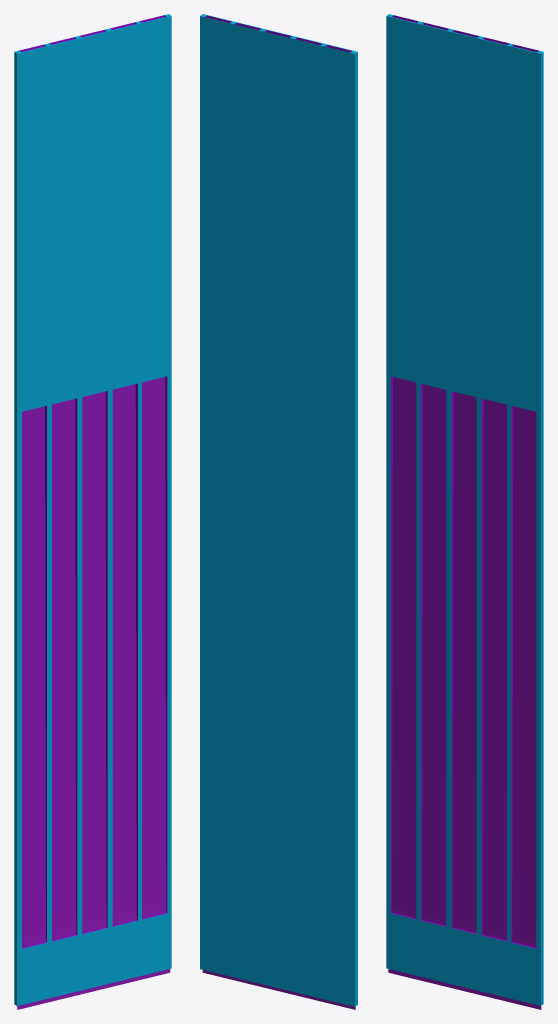
File: decoration-f25.glb
3 renders of one model, left to right at view 1: azimuth 30°, elevation 25°; view 2: azimuth 150°, elevation 25°; view 3: azimuth 330°, elevation 25°, orthographic.
Parts seen in each view (by area): view 1: Material_011-material, Material_012-material, Material_010-material; view 2: Material_011-material, Material_012-material; view 3: Material_011-material, Material_012-material, Material_010-material.
Part boxes in pixels (bbox=[...]): Material_011-material: bbox=[14, 14, 171, 1005]; Material_012-material: bbox=[17, 377, 170, 1009]; Material_010-material: bbox=[19, 15, 167, 948]; Material_011-material: bbox=[200, 14, 357, 1006]; Material_012-material: bbox=[202, 970, 355, 1009]; Material_011-material: bbox=[386, 14, 543, 1005]; Material_012-material: bbox=[388, 377, 541, 1009]; Material_010-material: bbox=[391, 15, 538, 948].
Size of the model in its own units: 16.64 by 98.35 by 0.535.
